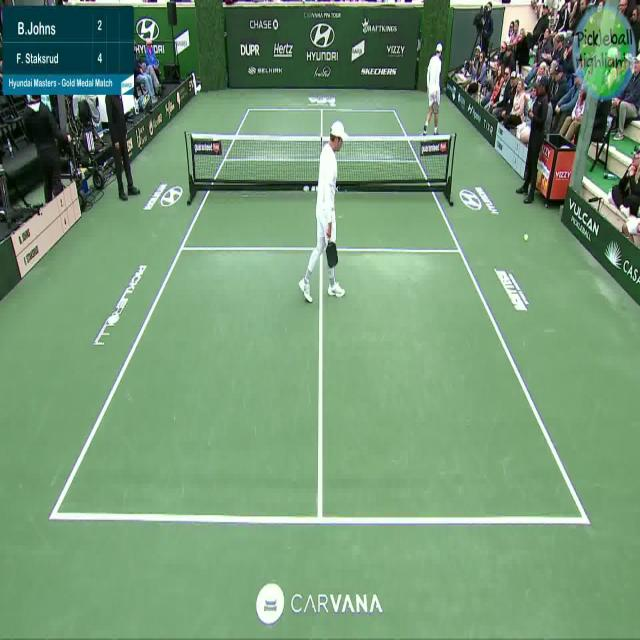ball: (519, 218, 532, 249)
